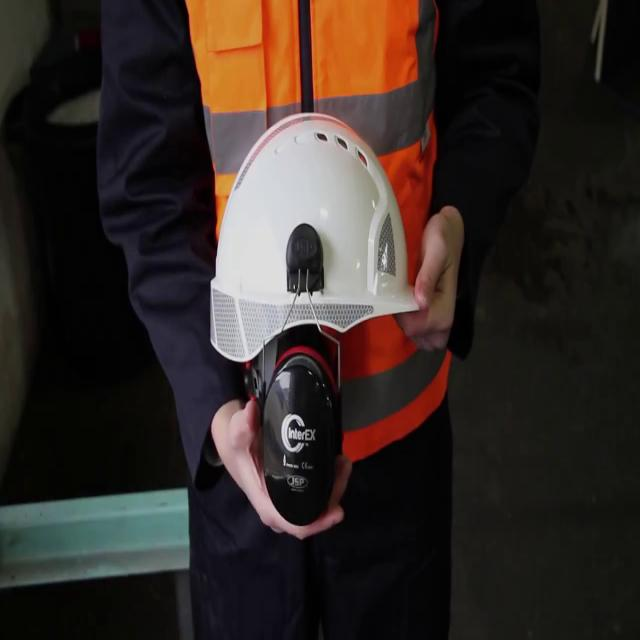earmuff: (256, 341, 345, 533)
helmet: (206, 109, 428, 364)
